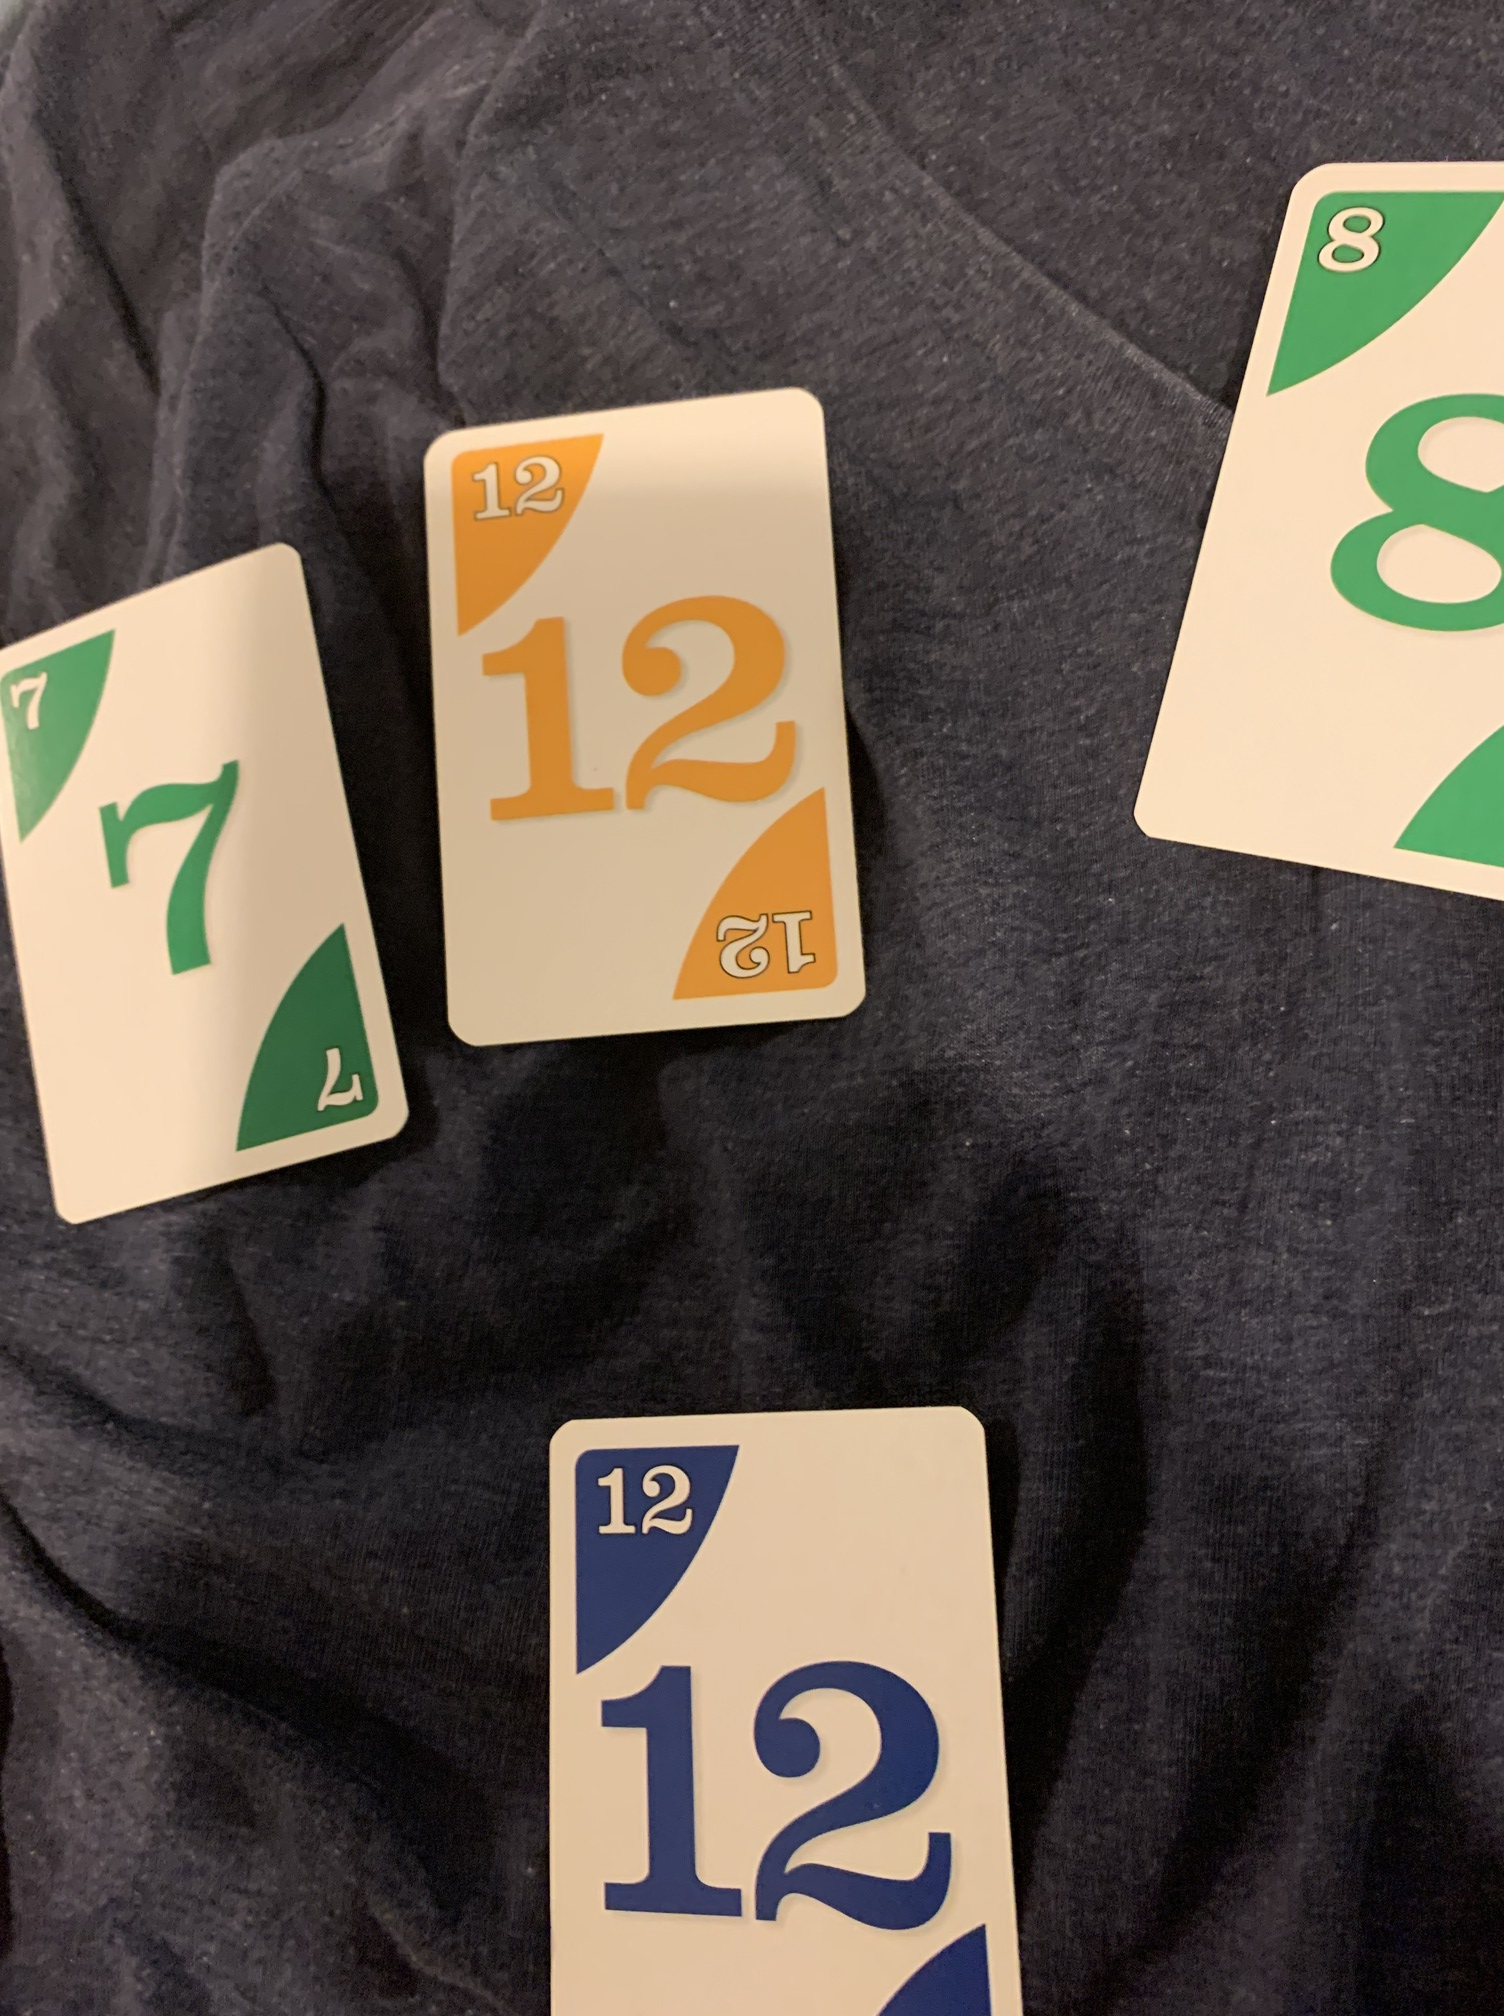eight: (1126, 152, 1504, 908)
seven: (3, 529, 423, 1242)
twelve: (517, 1401, 1055, 2016), (408, 384, 867, 1060)
